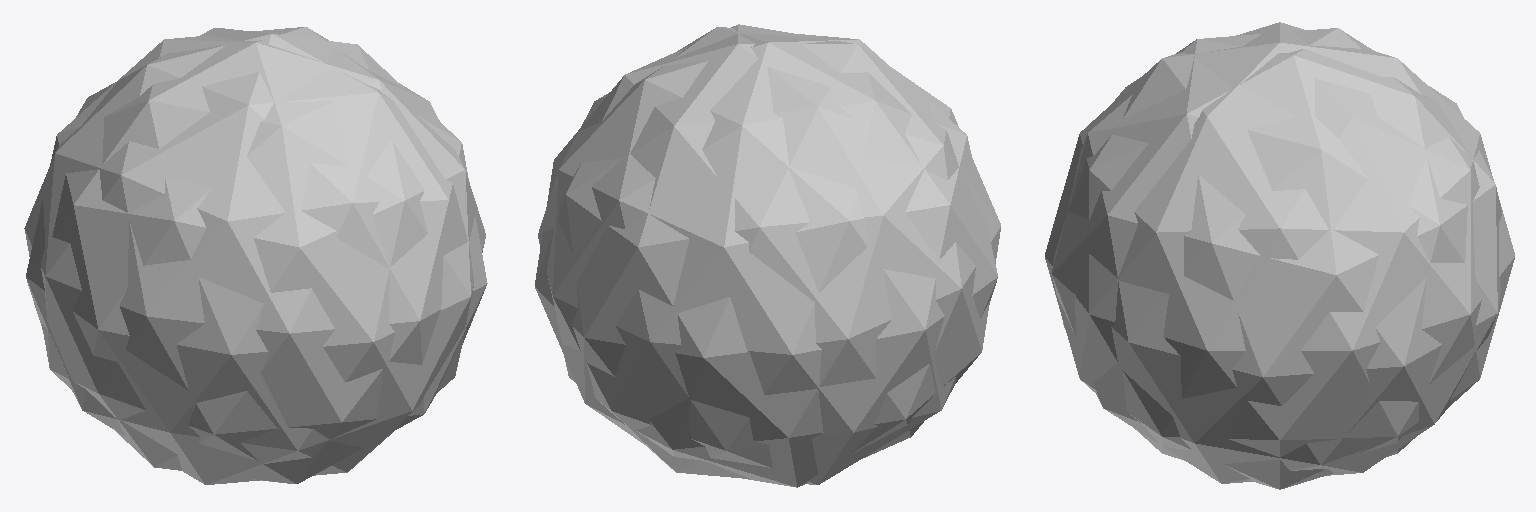
File: core.obj
3 views of the same model, side by side, from view 1: azimuth 30°, elevation 25°; view 2: azimuth 150°, elevation 25°; view 3: azimuth 270°, elevation 25° (orthographic).
Bounding box in the file's own units: 9.97 × 10.05 × 10.05.